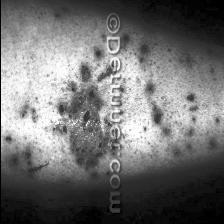Toxin: (60, 83, 108, 178), (142, 99, 162, 127)
